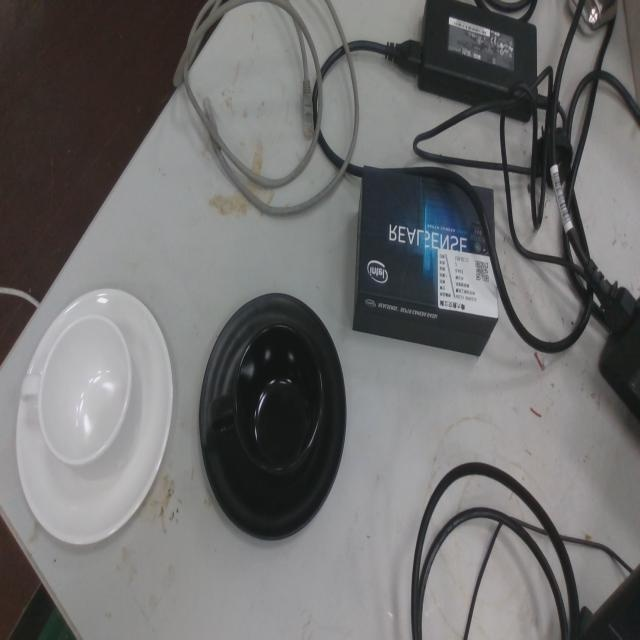black: (196, 287, 349, 547)
white: (13, 283, 176, 553)
